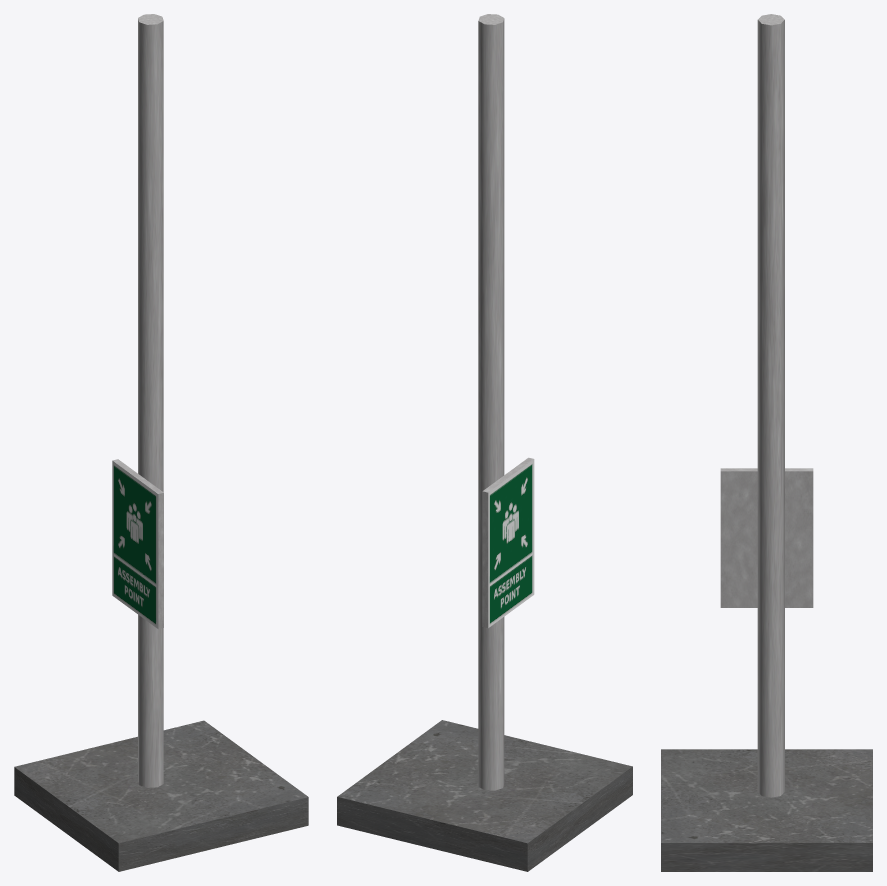
File: Board - Copy.fbx
The picture shows the model from 3 angles, left to right: view 1: azimuth 30°, elevation 25°; view 2: azimuth 150°, elevation 25°; view 3: azimuth 270°, elevation 25°; orthographic projection.
Visible parts, largest first — view 1: Board; view 2: Board; view 3: Board.
Boxes of the visible parts, bbox=[...] form: Board: bbox=[14, 14, 308, 871]; Board: bbox=[337, 14, 632, 871]; Board: bbox=[661, 14, 872, 871].
Bounding box in the file's own units: 374 × 1505 × 357.
1 material, 1 textured.
